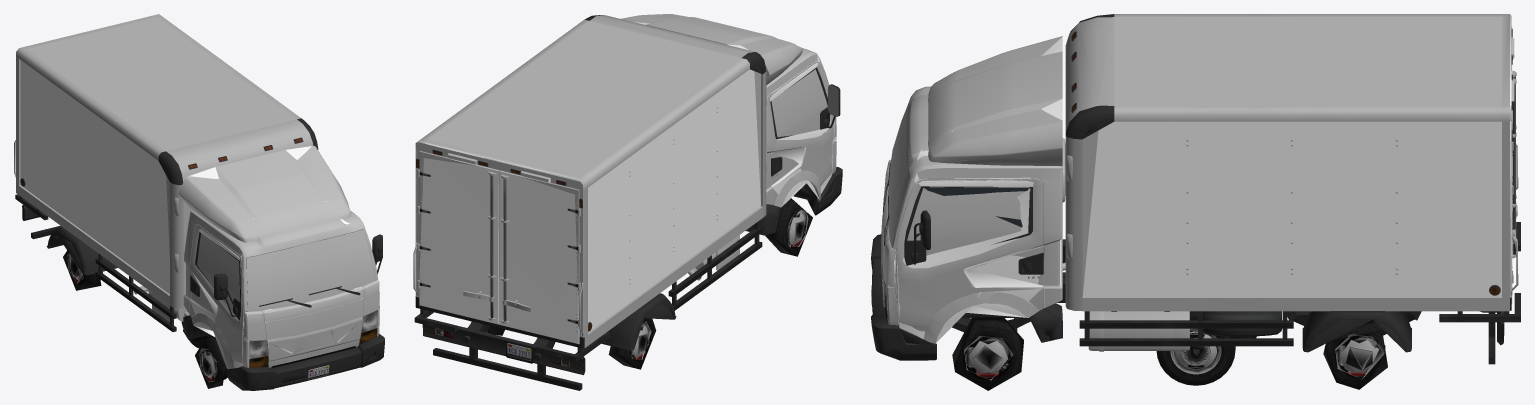
The model's file is truck.glb.
The picture shows the model from 3 angles, left to right: view 1: azimuth 30°, elevation 25°; view 2: azimuth 150°, elevation 25°; view 3: azimuth 270°, elevation 25°; orthographic projection. The views are drawn at different scales.
Parts seen in each view (by area): view 1: paint0, far, kit0, paint1, kit1, glass1, glass0; view 2: far, paint0, kit0, kit1, paint1, glass0, glass1; view 3: far, paint0, kit0, paint1, kit1, glass0, glass1, wheel0, wheel1.
Part boxes in pixels (<box>): paint0: <box>26,17,379,368</box>; far: <box>16,59,374,388</box>; kit0: <box>14,14,384,390</box>; paint1: <box>183,152,379,368</box>; kit1: <box>19,15,376,388</box>; glass1: <box>197,229,375,311</box>; glass0: <box>197,231,375,311</box>; far: <box>415,22,836,389</box>; paint0: <box>415,14,836,344</box>; kit0: <box>413,15,842,390</box>; kit1: <box>415,15,838,390</box>; paint1: <box>416,14,836,337</box>; glass0: <box>772,69,827,137</box>; glass1: <box>771,80,825,137</box>; far: <box>873,22,1520,390</box>; paint0: <box>882,14,1514,343</box>; kit0: <box>871,14,1520,360</box>; paint1: <box>883,18,1514,342</box>; kit1: <box>871,14,1520,364</box>; glass0: <box>887,114,1029,255</box>; glass1: <box>887,103,1029,246</box>; wheel0: <box>1156,311,1235,385</box>; wheel1: <box>1165,329,1226,385</box>.
Bounding box in the file's own units: 2.43 × 3.19 × 5.86.
Materials: 1 (1 with a texture image).
